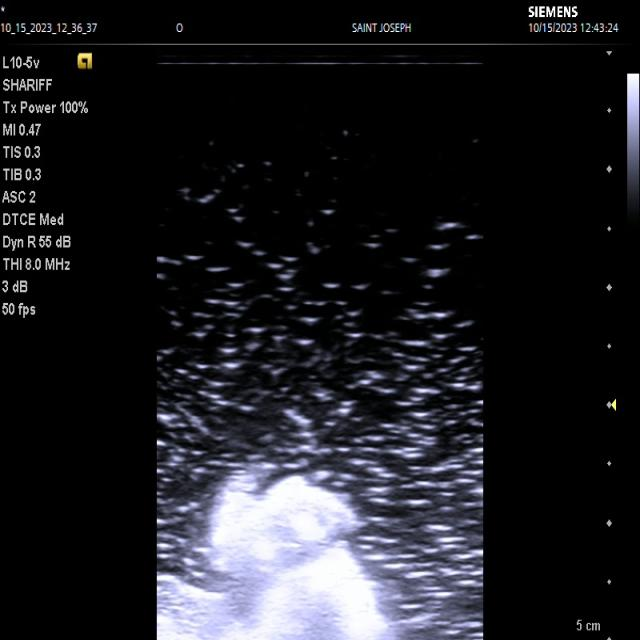tissue: (158, 476, 386, 640)
